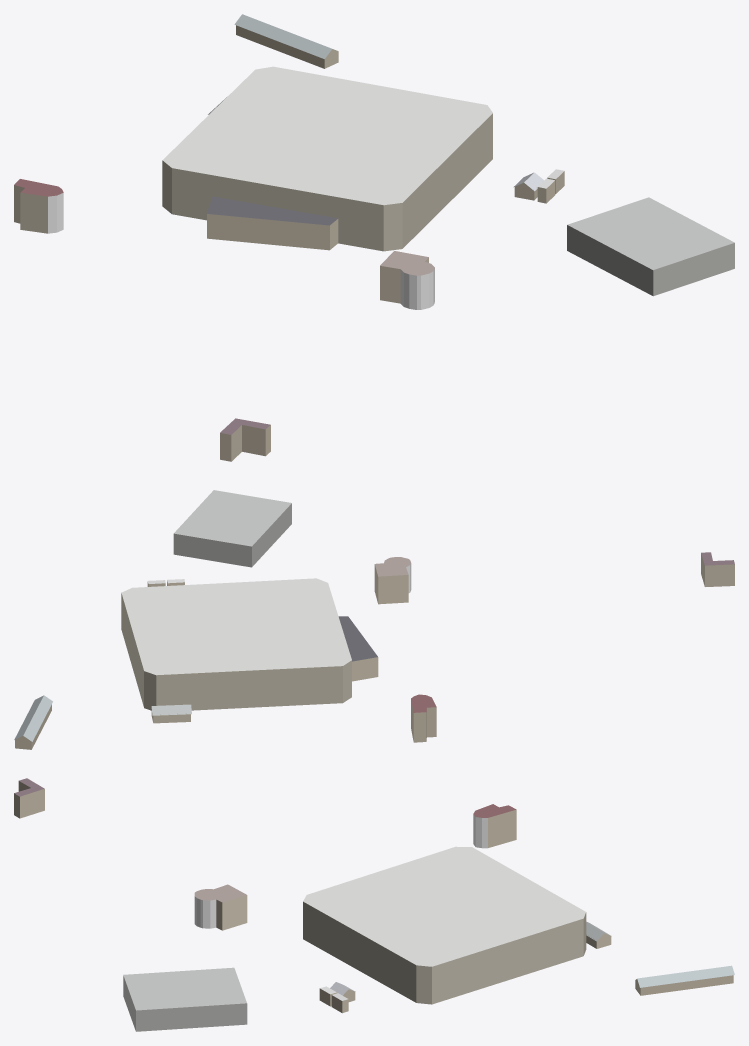
The picture shows the model from 3 angles, top to bottom: view 1: azimuth 30°, elevation 25°; view 2: azimuth 150°, elevation 25°; view 3: azimuth 270°, elevation 25°; orthographic projection. The views are drawn at different scales.
Visible parts, largest first — view 1: tuile; view 2: tuile; view 3: tuile.
Boxes of the visible parts, x1,y1,x2,y2 form: tuile: (14, 14, 734, 461); tuile: (14, 490, 734, 749); tuile: (14, 778, 734, 1031).
Size of the model in its own units: 197 by 15.36 by 259.
